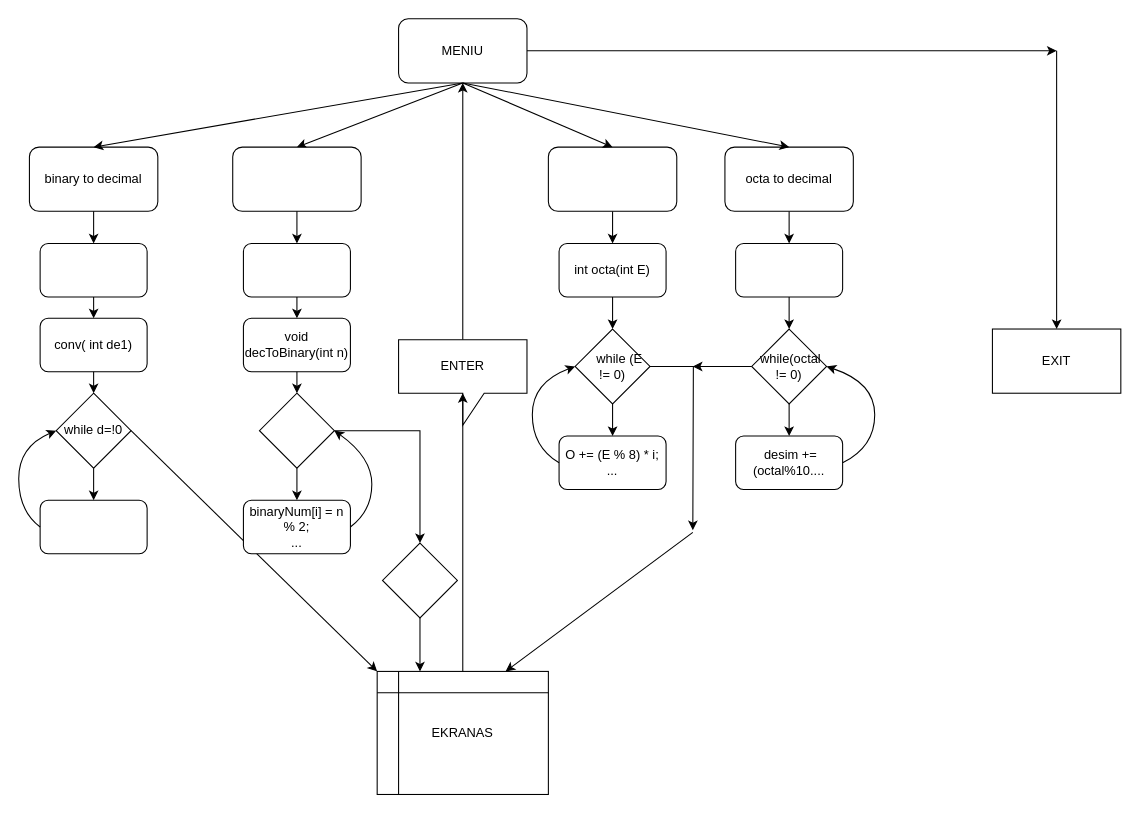
Image size: 1140x813. Some labels were removed from this diagram. Here are the shapes that lost their labels. From the top down, the box of each, then its label:
(232, 146, 361, 211): decumal to binary
(547, 146, 677, 211): decimal to octa
(39, 242, 147, 297): int getbin()
(242, 242, 350, 297): int getdec()
(735, 242, 843, 297): int convoct(int octal)
(258, 392, 334, 468): while (n > 0)
(39, 499, 147, 554): r = d%10; ....
(381, 542, 457, 618): for (int j = i....
